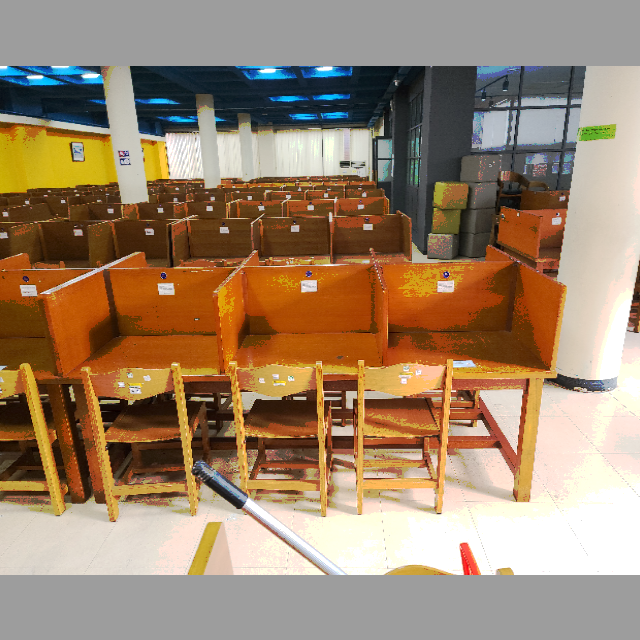empty: (57, 252, 220, 442), (395, 254, 548, 452), (226, 252, 384, 437)
